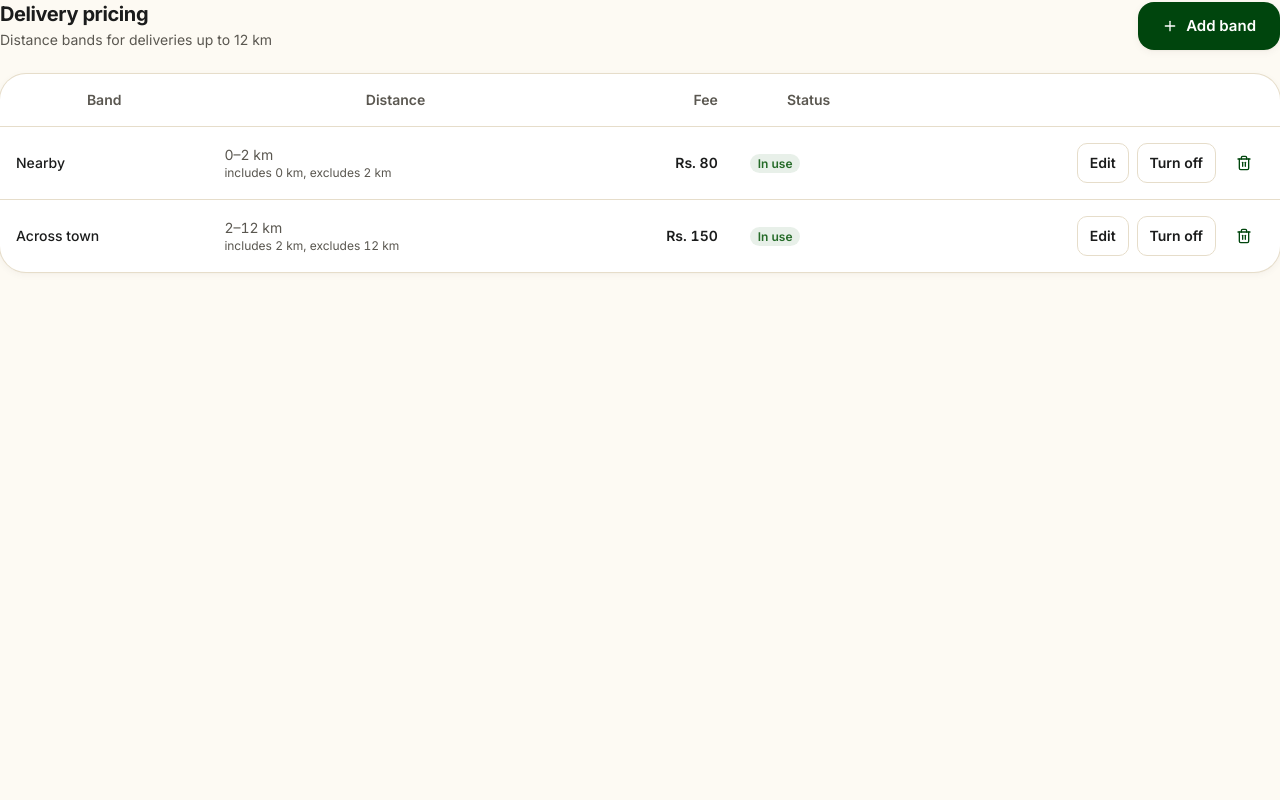
Test case: AdminDeliveryPricingScreen › refuses an inverted range before sending it
The image size is (1280, 800).
Expected: the table is shown, [0, 74, 1279, 272]
Step 1. Click the button "Add band" → {"x": 1209, "y": 26}, box [1138, 2, 1279, 50]
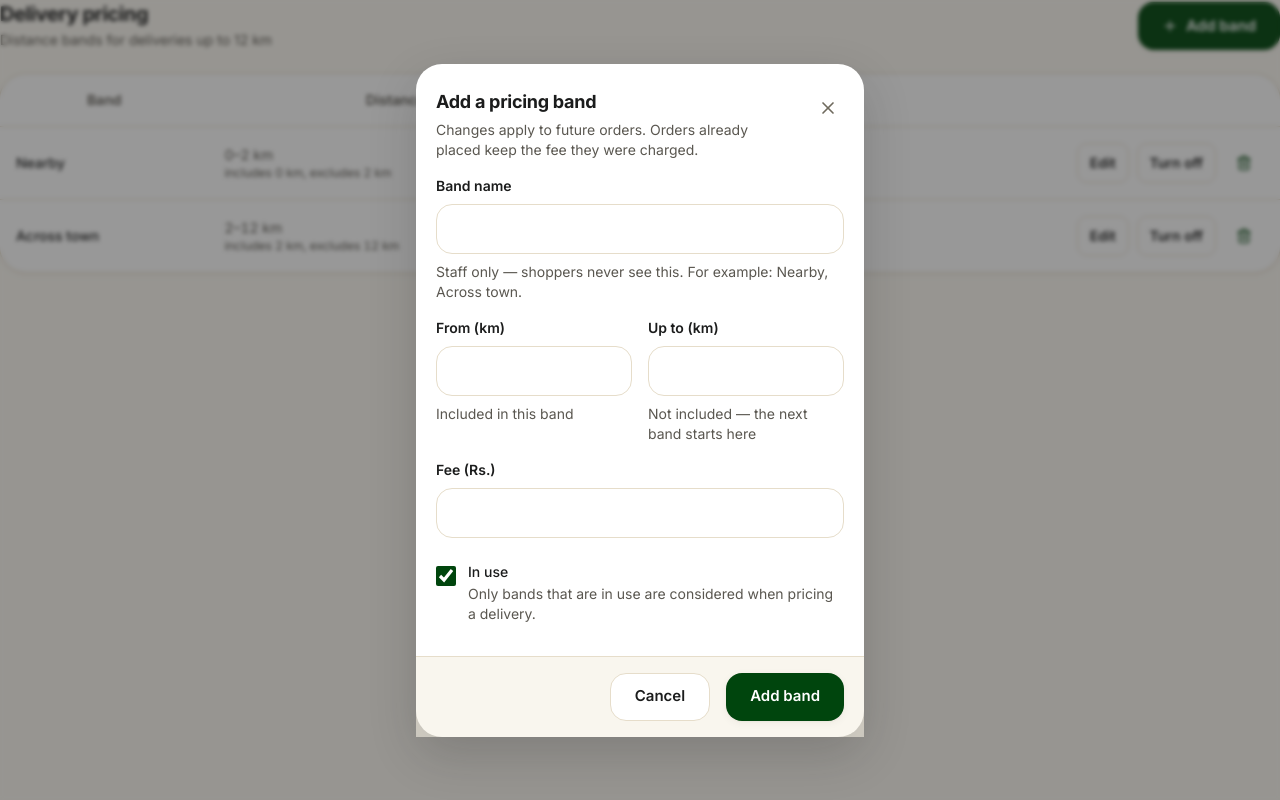
Step 2. Type "Backwards" into the field labelled "Band name" → {"x": 640, "y": 228}, box [453, 204, 827, 252]
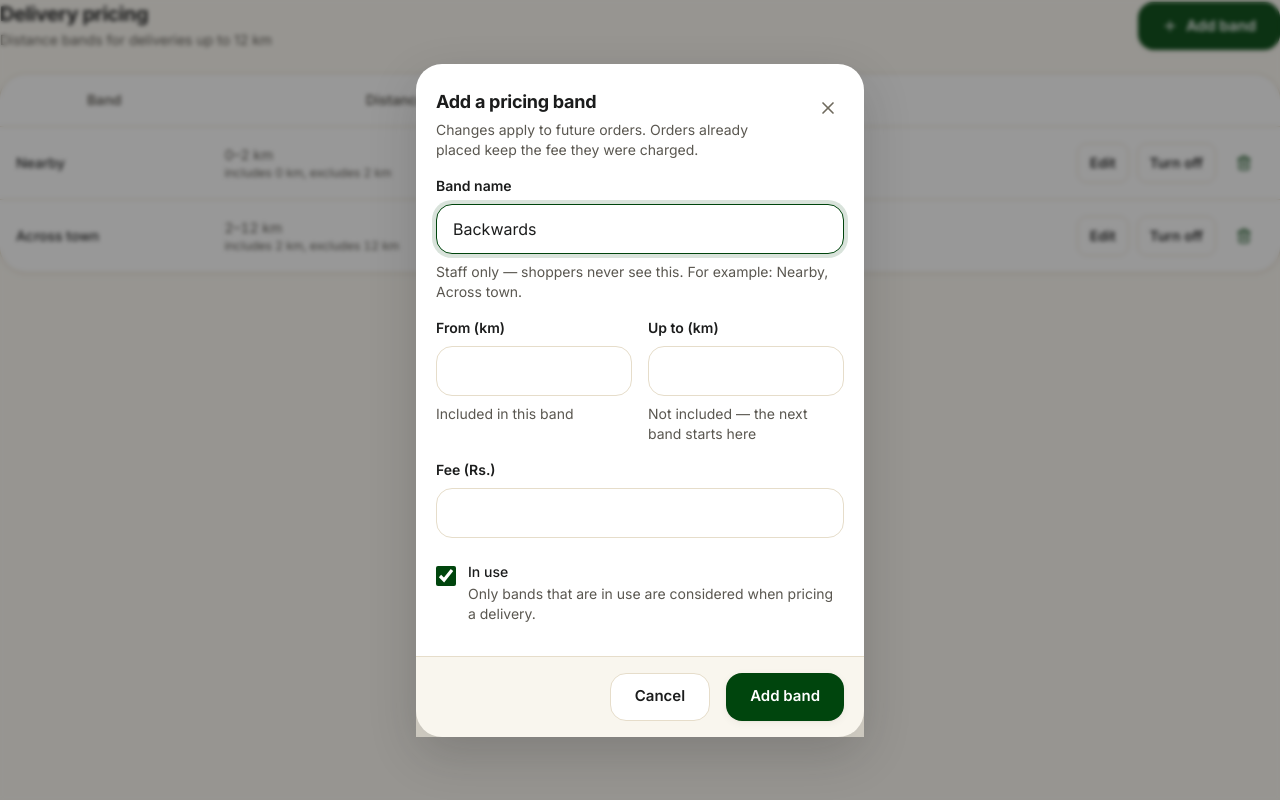
Step 3. Type "5" into the number field labelled "From (km)" → {"x": 534, "y": 370}, box [453, 346, 615, 394]
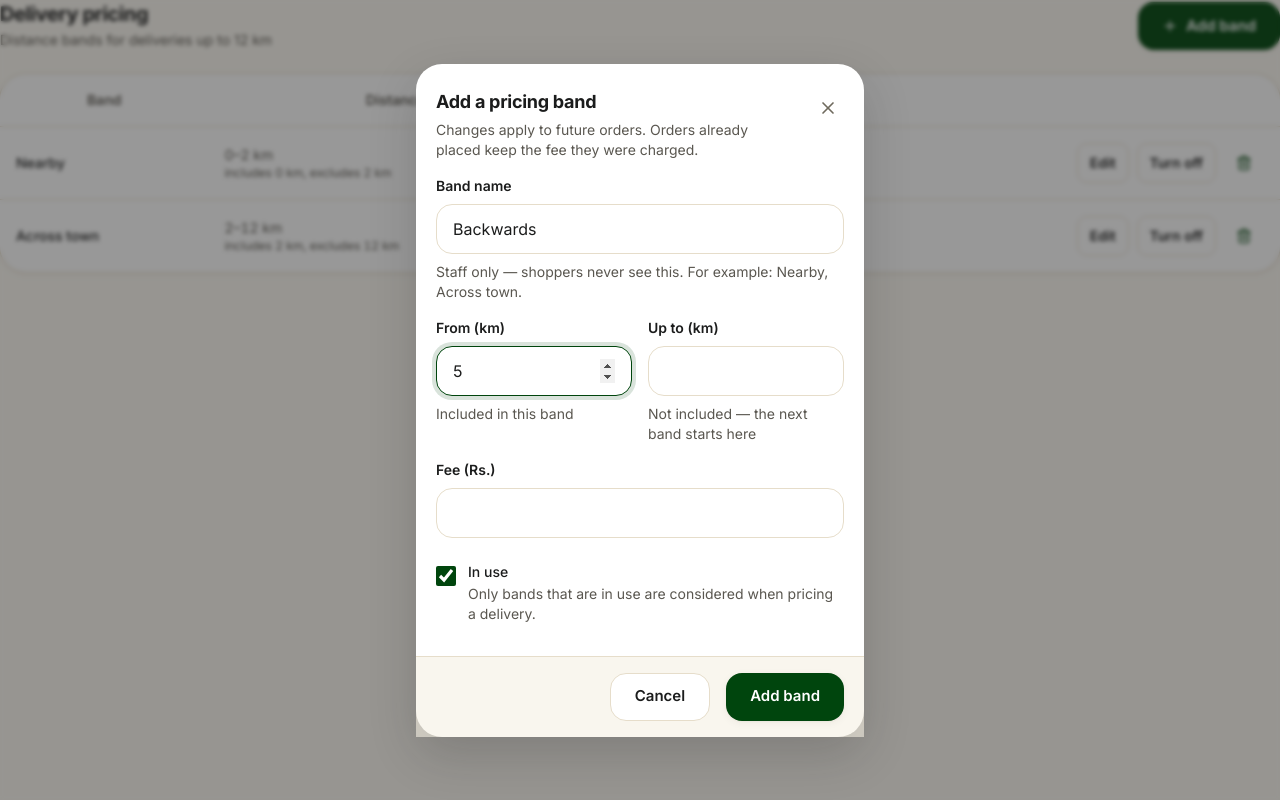
Step 4. Type "2" into the number field labelled "Up to (km)" → {"x": 746, "y": 370}, box [665, 346, 827, 394]
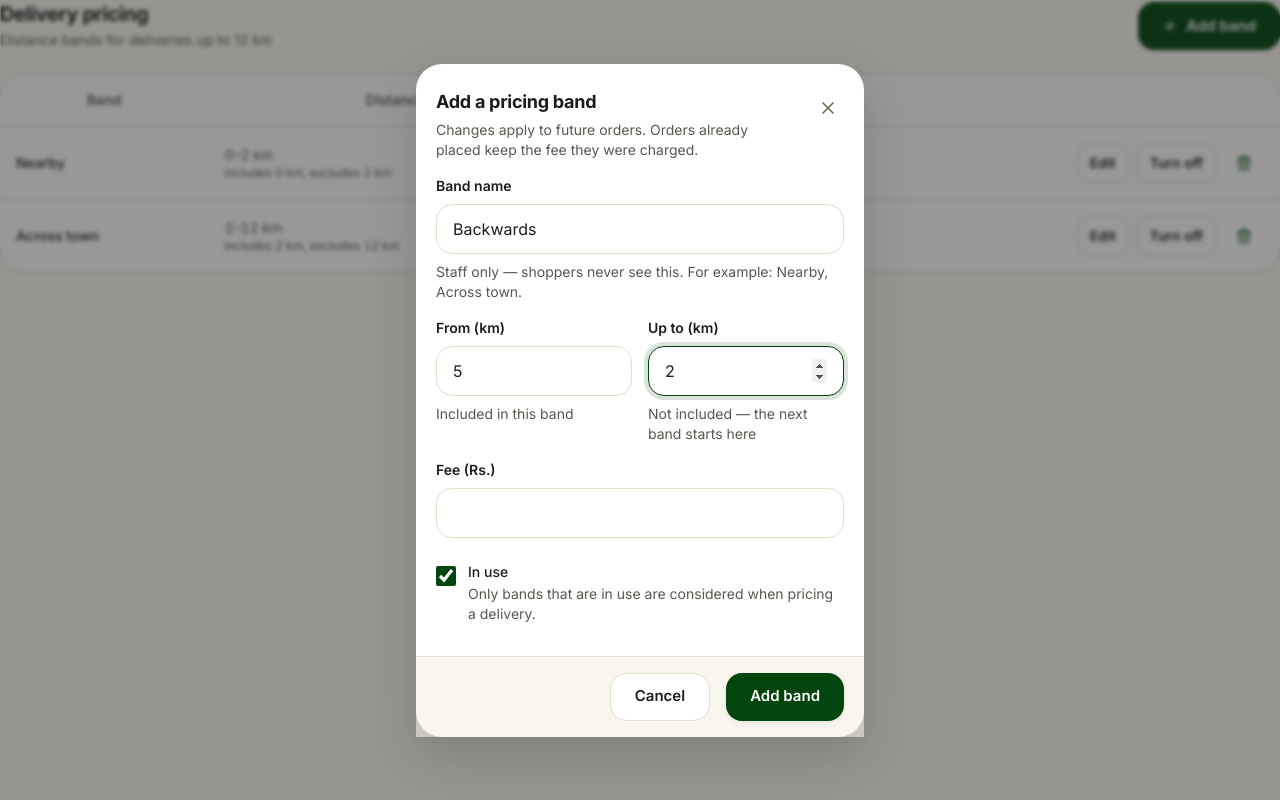
Step 5. Type "100" into the number field labelled "Fee (Rs.)" → {"x": 640, "y": 512}, box [453, 488, 827, 536]
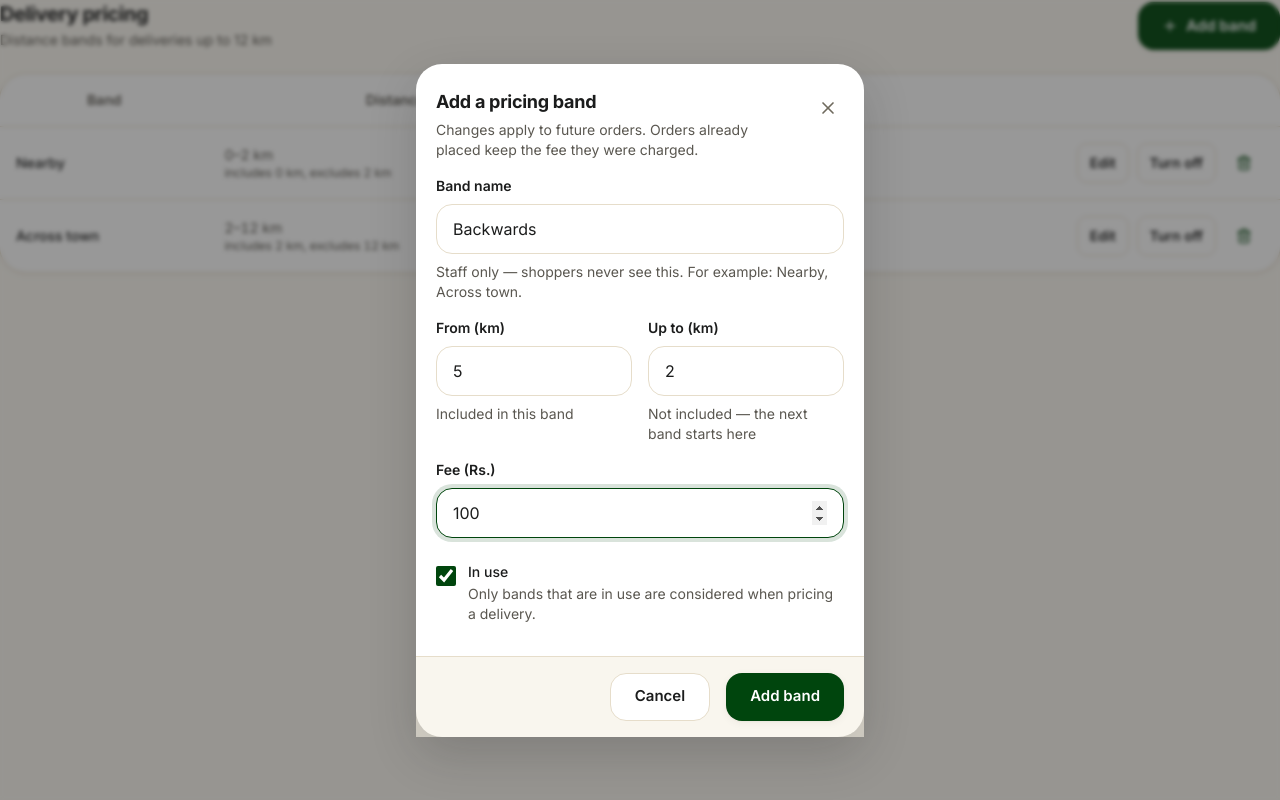
Step 6. Click the button "Add band" → {"x": 785, "y": 696}, box [726, 672, 844, 720]
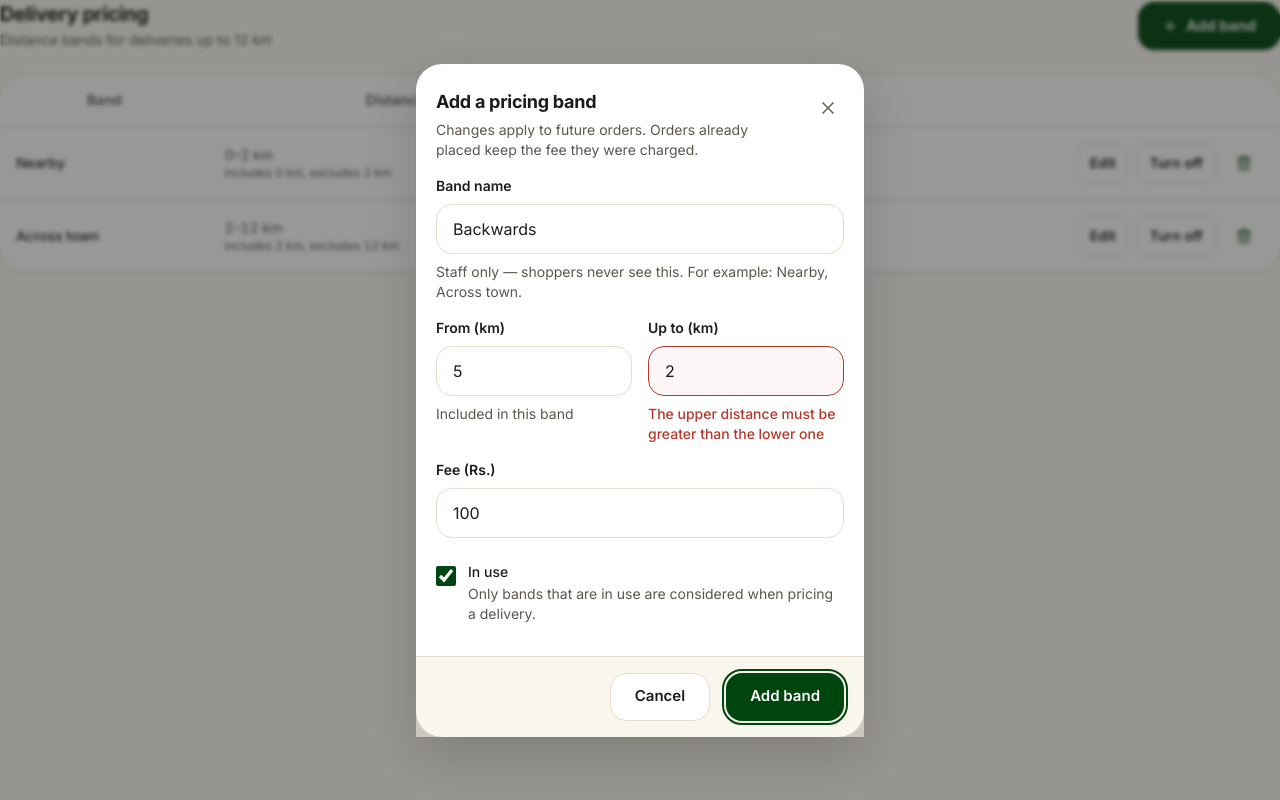
Expected: the text "The upper distance must be greater than the lower one" is shown, [648, 404, 844, 444]
